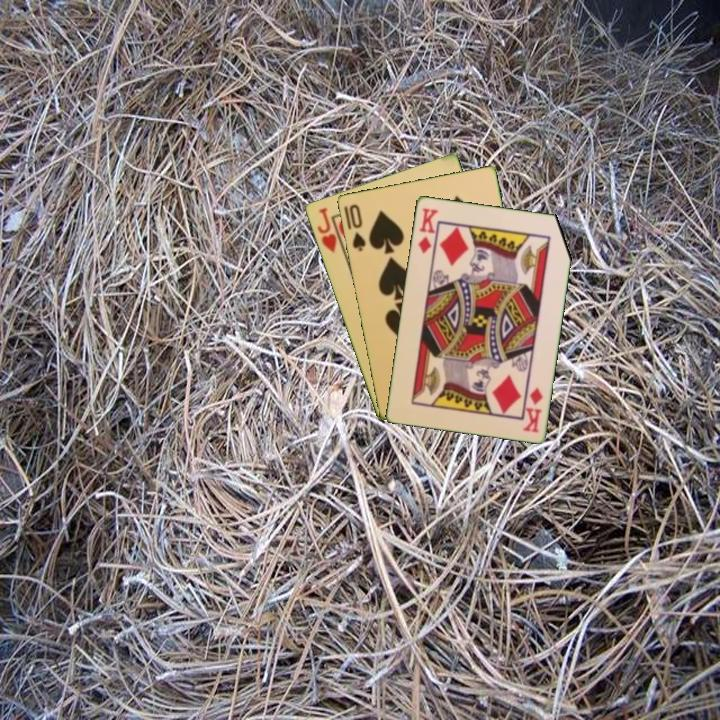10s: (345, 200, 368, 254)
Jh: (313, 204, 347, 256)
Kd: (414, 204, 441, 256), (520, 384, 545, 435)
